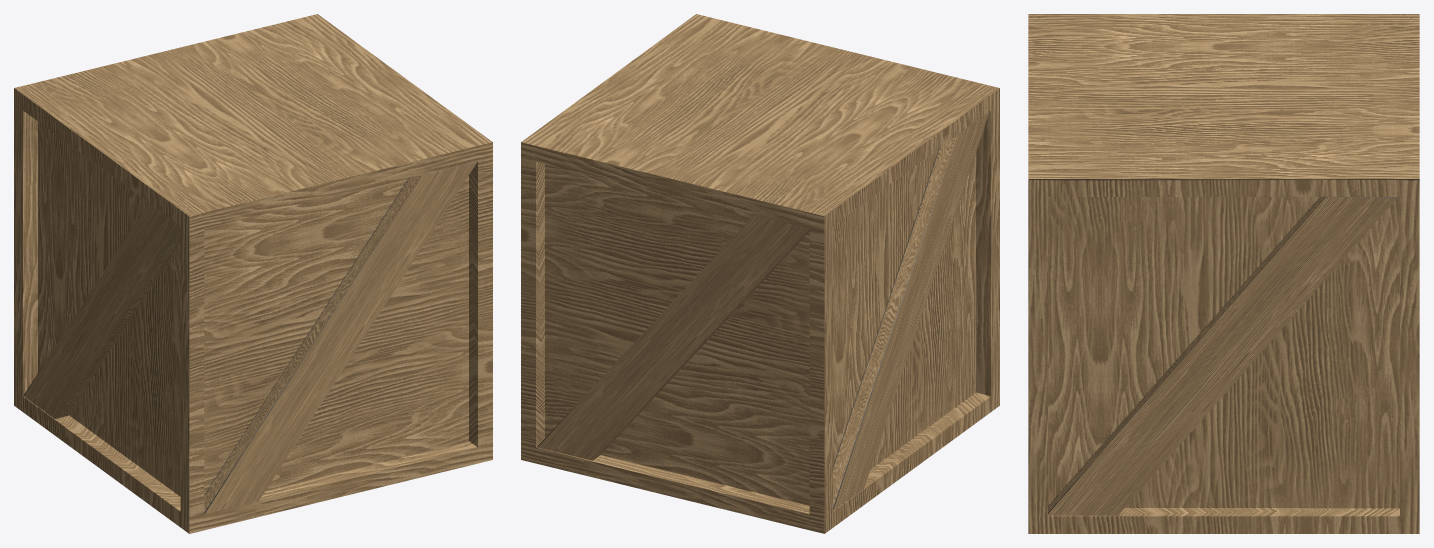
The model's file is Crate.fbx.
3 views of the same model, side by side, from view 1: azimuth 30°, elevation 25°; view 2: azimuth 150°, elevation 25°; view 3: azimuth 270°, elevation 25° (orthographic). The views are drawn at different scales.
Visible parts, largest first — view 1: Crate; view 2: Crate; view 3: Crate.
Boxes of the visible parts, box(x1,y1,x2,y2) form: Crate: box(14, 14, 492, 533); Crate: box(521, 14, 999, 533); Crate: box(1028, 14, 1419, 533).
Bounding box in the file's own units: 200 × 200 × 200.
